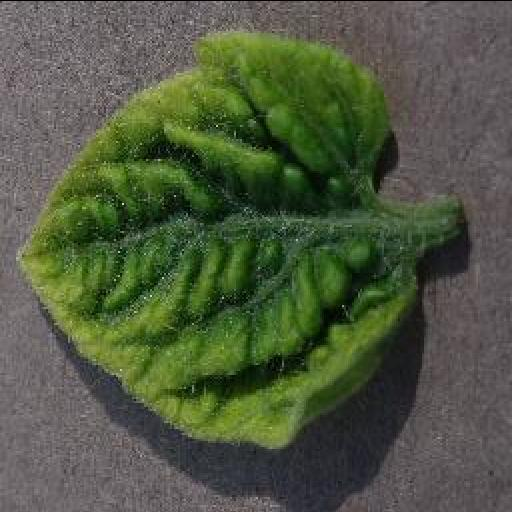disease_tomato: (14, 28, 422, 452)
